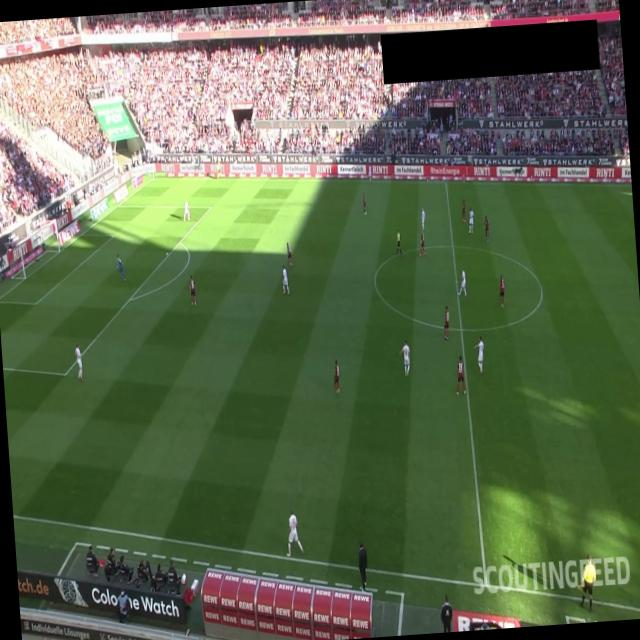ball: (164, 250, 168, 258)
goalkeeper: (115, 252, 127, 282)
player: (282, 508, 304, 557), (452, 354, 466, 396), (472, 334, 486, 374), (398, 339, 412, 376), (74, 342, 84, 381), (332, 358, 341, 394), (442, 304, 451, 340), (280, 264, 290, 294), (497, 274, 506, 307), (456, 268, 466, 296), (188, 274, 196, 306), (180, 198, 190, 222), (466, 207, 475, 233), (418, 230, 426, 256), (483, 214, 490, 241), (286, 241, 293, 267), (460, 198, 466, 222), (420, 207, 426, 230), (361, 192, 367, 214)
referee: (576, 554, 598, 612), (393, 228, 402, 256), (216, 160, 222, 178)
